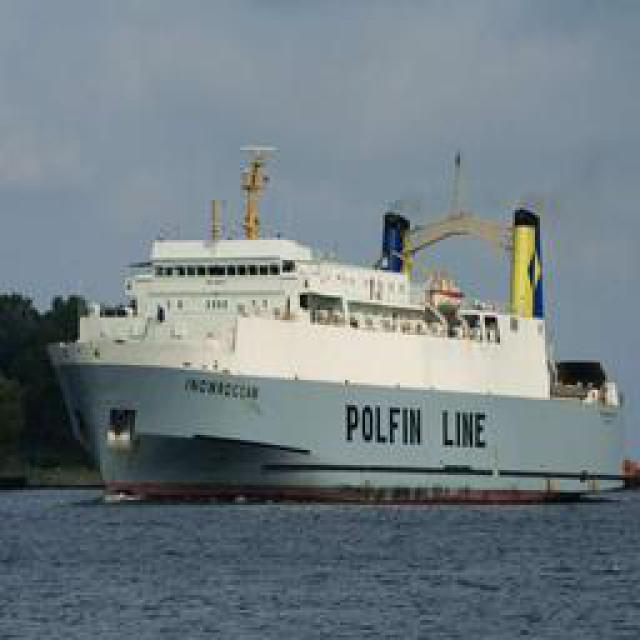Ship: (56, 132, 629, 490)
